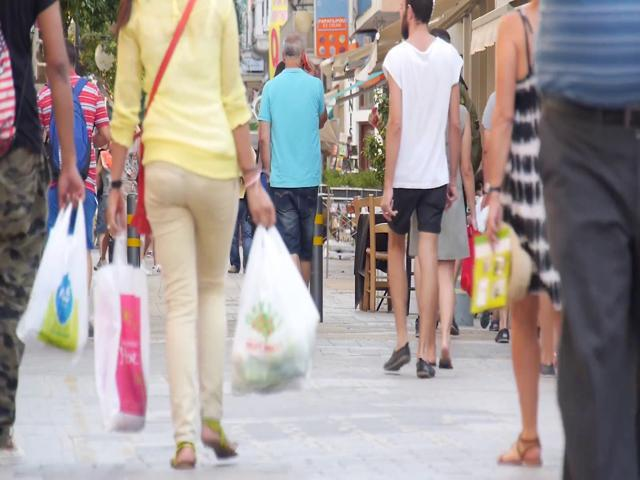shoe: (201, 420, 238, 459), (496, 438, 542, 468), (383, 342, 411, 370), (171, 442, 196, 469), (415, 357, 435, 378), (439, 345, 454, 368), (495, 329, 510, 343)
